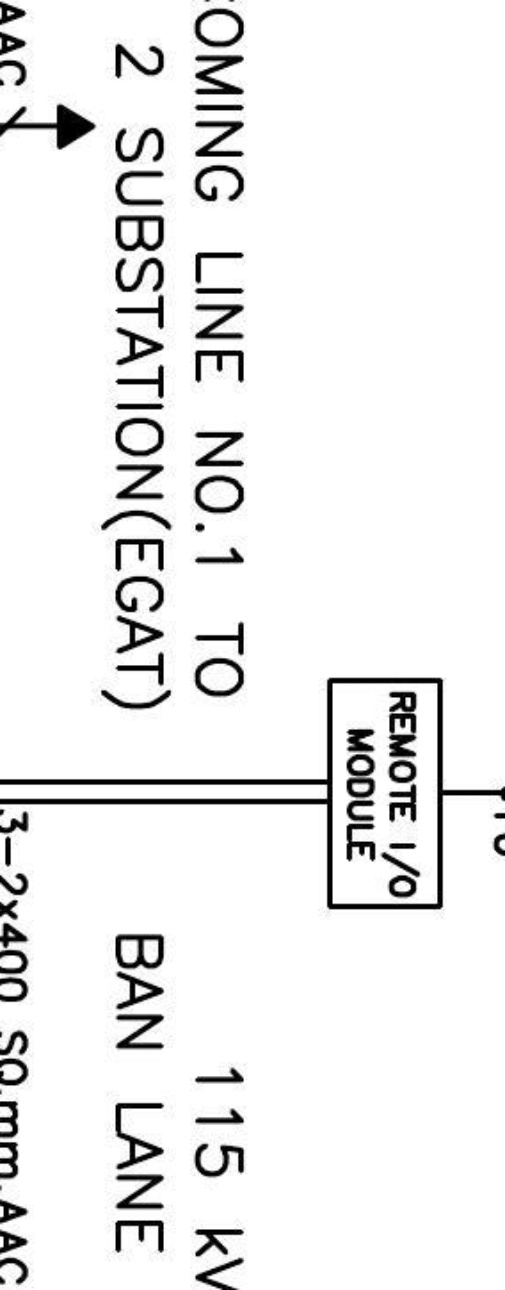remote_io_module: (326, 676, 443, 909)
